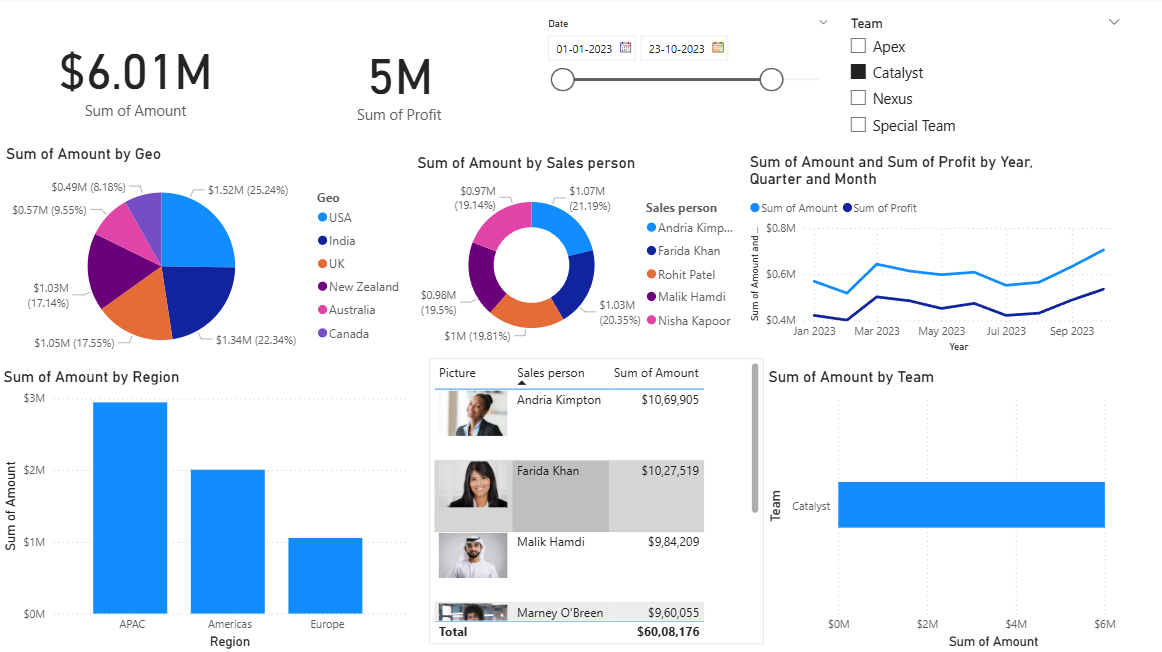

The page's visual inventory and layout, read from the dashboard file:
{"tool":"powerbi","page":{"name":"Page 1","canvas":[1280,720],"ordinal":0},"visuals":[{"type":"columnChart","fields":{"Category":["Locations.Region"],"Y":["Sum(sales.Amount)"]},"box":[0,405.9,451.5,314.7],"z":0},{"type":"tableEx","fields":{"Values":["EmployeeData.Picture","EmployeeData.Sales person","Sum(sales.Amount)"]},"box":[472,396.6,367.8,314.2],"z":1000},{"type":"barChart","fields":{"Category":["EmployeeData.Team"],"Y":["Sum(sales.Amount)"]},"box":[839.7,405.9,439.7,314.7],"z":2000},{"type":"pieChart","fields":{"Category":["Locations.Geo"],"Y":["Sum(sales.Amount)"]},"box":[2.9,161.8,451.5,247.1],"z":3000},{"type":"donutChart","fields":{"Category":["EmployeeData.Sales person"],"Y":["Sum(sales.Amount)"]},"box":[454.4,172.1,369.1,225],"z":4000},{"type":"lineChart","fields":{"Category":["sales.Date.Variation.Date Hierarchy.Year","sales.Date.Variation.Date Hierarchy.Quarter","sales.Date.Variation.Date Hierarchy.Month","sales.Date.Variation.Date Hierarchy.Day"],"Y":["Sum(sales.Amount)","Sum(sales.Profit)"]},"box":[819.1,170.6,423.5,225],"z":5000},{"type":"card","fields":{"Values":["Sum(sales.Amount)"]},"box":[0,11.8,300,147.1],"z":6000},{"type":"card","fields":{"Values":["Sum(sales.Profit)"]},"box":[289.7,23.5,300,135.3],"z":7000},{"type":"slicer","fields":{"Values":["sales.Date"]},"box":[589.7,17.6,332.4,147.1],"z":8000},{"type":"slicer","fields":{"Values":["EmployeeData.Team"]},"box":[922,15,321,150],"z":9000}]}

Visuals, with their boxes in screenshot pixels (x1, y1, x2, y2), scaled from the page's 1280x720 canvas onto the 1162x652 screenshot:
columnChart - Locations.Region x Sum(sales.Amount): (left=0, top=368, right=410, bottom=651)
tableEx - EmployeeData.Picture x EmployeeData.Sales person: (left=428, top=359, right=762, bottom=644)
barChart - EmployeeData.Team x Sum(sales.Amount): (left=762, top=368, right=1161, bottom=651)
pieChart - Locations.Geo x Sum(sales.Amount): (left=3, top=147, right=413, bottom=370)
donutChart - EmployeeData.Sales person x Sum(sales.Amount): (left=413, top=156, right=748, bottom=360)
lineChart - sales.Date.Variation.Date Hierarchy.Year x sales.Date.Variation.Date Hierarchy.Quarter: (left=744, top=154, right=1128, bottom=358)
card - Sum(sales.Amount): (left=0, top=11, right=272, bottom=144)
card - Sum(sales.Profit): (left=263, top=21, right=535, bottom=144)
slicer - sales.Date: (left=535, top=16, right=837, bottom=149)
slicer - EmployeeData.Team: (left=837, top=14, right=1128, bottom=149)
